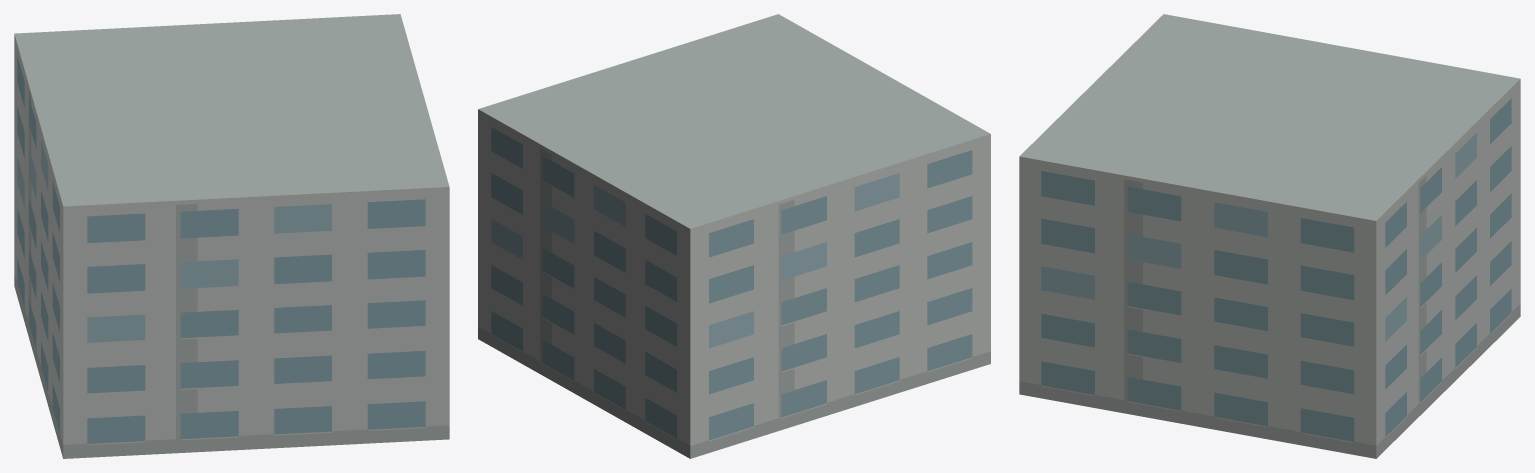
File: residential-b666b914-5897-497a-8445-4a2879d7b504.glb
3 views of the same model, side by side, from view 1: azimuth 30°, elevation 25°; view 2: azimuth 150°, elevation 25°; view 3: azimuth 270°, elevation 25° (orthographic). The views are drawn at different scales.
Parts seen in each view (by area): view 1: residential-b666b914-5897-497a-8445-4a2879d7b504.tmp; view 2: residential-b666b914-5897-497a-8445-4a2879d7b504.tmp; view 3: residential-b666b914-5897-497a-8445-4a2879d7b504.tmp.
Boxes of the visible parts, <box> form: residential-b666b914-5897-497a-8445-4a2879d7b504.tmp: <box>14,14,449,458</box>; residential-b666b914-5897-497a-8445-4a2879d7b504.tmp: <box>478,14,990,458</box>; residential-b666b914-5897-497a-8445-4a2879d7b504.tmp: <box>1019,14,1520,458</box>.
Bounding box in the file's own units: 28.46 × 15.25 × 29.13.
